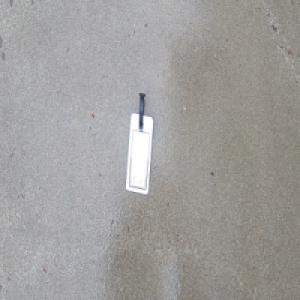LuggageTag: (125, 91, 155, 196)
